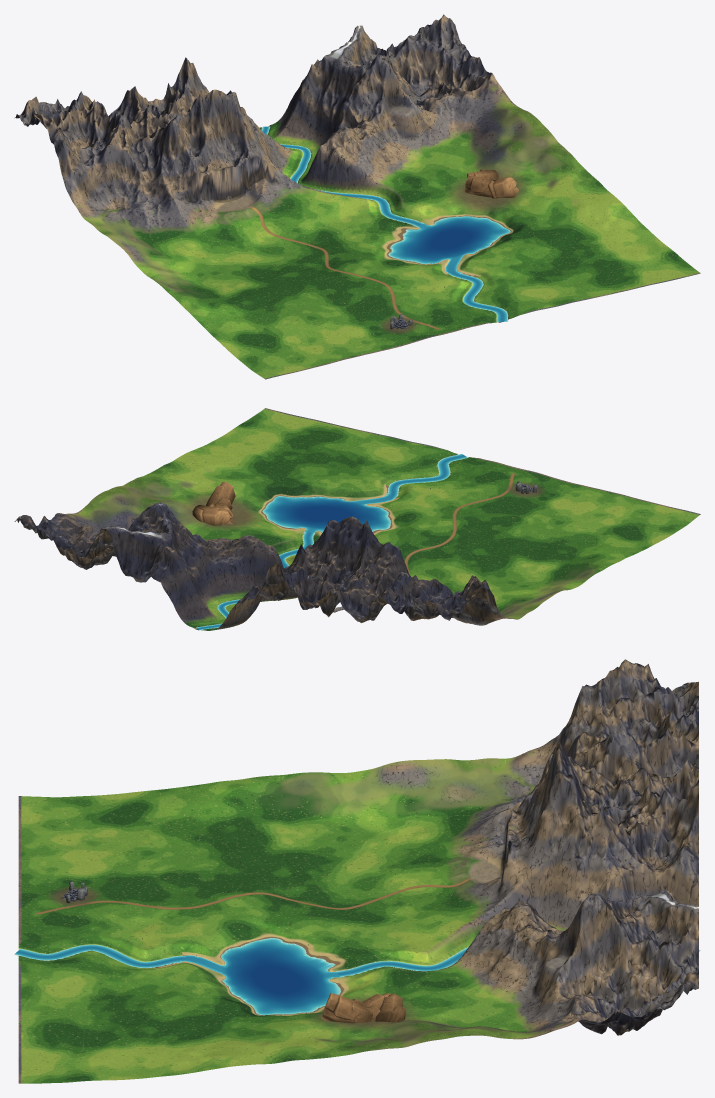
File: 700m_Mountain_River_Lake_Cave_Mobile.fbx
3 views of the same model, one above another, from view 1: azimuth 30°, elevation 25°; view 2: azimuth 150°, elevation 25°; view 3: azimuth 270°, elevation 25° (orthographic). The views are drawn at different scales.
Parts seen in each view (by area): view 1: Terrain_Tile_13, Terrain_Tile_34, Terrain_Tile_03, Terrain_Tile_04, Terrain_Tile_44, Terrain_Tile_33, Terrain_Tile_43, Terrain_Tile_23, Terrain_Tile_41, Terrain_Tile_42, Terrain_Tile_00, Terrain_Tile_40 (+16 smaller); view 2: Terrain_Tile_34, Terrain_Tile_14, Terrain_Tile_11, Terrain_Tile_30, Terrain_Tile_00, Terrain_Tile_40, Terrain_Tile_10, Terrain_Tile_41, Terrain_Tile_01, Terrain_Tile_04, Terrain_Tile_20, Water_Lake (+18 smaller); view 3: Terrain_Tile_04, Terrain_Tile_24, Terrain_Tile_02, Terrain_Tile_44, Terrain_Tile_33, Terrain_Tile_01, Terrain_Tile_23, Terrain_Tile_30, Terrain_Tile_40, Terrain_Tile_12, Terrain_Tile_00, Terrain_Tile_03 (+18 smaller).
Boxes of the visible parts, left/top/right/bottom form: Terrain_Tile_13: left=151, top=89, right=288, bottom=240; Terrain_Tile_34: left=275, top=25, right=412, bottom=154; Terrain_Tile_03: left=64, top=163, right=200, bottom=249; Terrain_Tile_04: left=14, top=91, right=150, bottom=183; Terrain_Tile_44: left=363, top=14, right=499, bottom=112; Terrain_Tile_33: left=339, top=99, right=462, bottom=202; Terrain_Tile_43: left=413, top=85, right=549, bottom=174; Terrain_Tile_23: left=242, top=111, right=375, bottom=219; Terrain_Tile_41: left=513, top=183, right=650, bottom=254; Terrain_Tile_42: left=463, top=132, right=599, bottom=214; Terrain_Tile_00: left=215, top=318, right=351, bottom=379; Terrain_Tile_40: left=564, top=232, right=700, bottom=293; Terrain_Tile_34: left=101, top=502, right=238, bottom=625; Terrain_Tile_14: left=275, top=521, right=402, bottom=622; Terrain_Tile_11: left=426, top=504, right=562, bottom=563; Terrain_Tile_30: left=302, top=428, right=438, bottom=485; Terrain_Tile_00: left=564, top=492, right=700, bottom=546; Terrain_Tile_40: left=216, top=408, right=351, bottom=462; Terrain_Tile_10: left=477, top=470, right=613, bottom=525; Terrain_Tile_41: left=165, top=440, right=301, bottom=496; Terrain_Tile_01: left=513, top=526, right=650, bottom=573; Terrain_Tile_04: left=363, top=572, right=499, bottom=620; Terrain_Tile_20: left=397, top=448, right=526, bottom=503; Water_Lake: left=262, top=493, right=394, bottom=534; Terrain_Tile_04: left=563, top=659, right=698, bottom=777; Terrain_Tile_24: left=563, top=785, right=698, bottom=930; Terrain_Tile_02: left=291, top=760, right=426, bottom=851; Terrain_Tile_44: left=563, top=912, right=698, bottom=1035; Terrain_Tile_33: left=427, top=902, right=562, bottom=1013; Terrain_Tile_01: left=154, top=774, right=290, bottom=849; Terrain_Tile_23: left=427, top=796, right=562, bottom=964; Terrain_Tile_30: left=18, top=964, right=154, bottom=1024; Terrain_Tile_40: left=18, top=1021, right=154, bottom=1083; Terrain_Tile_12: left=291, top=844, right=426, bottom=909; Terrain_Tile_00: left=18, top=790, right=154, bottom=852; Terrain_Tile_03: left=427, top=729, right=562, bottom=844.
Bounding box in the file's own units: 70000 × 16893 × 70673.
Materials: 7 (7 with a texture image).
